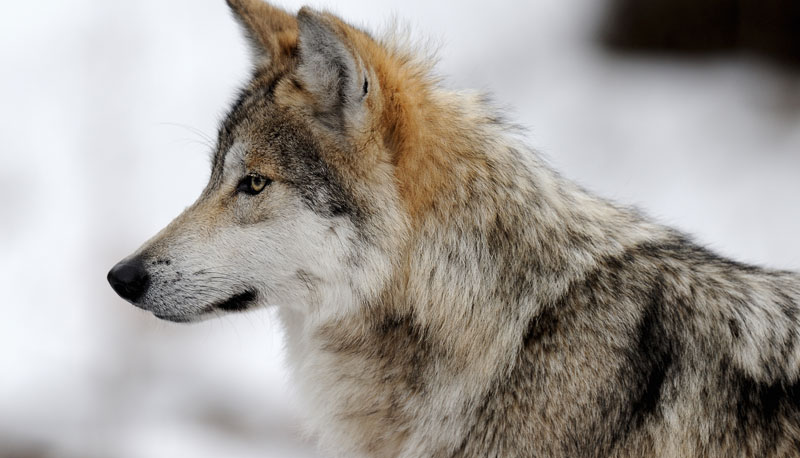Lobo: (90, 2, 747, 427)
